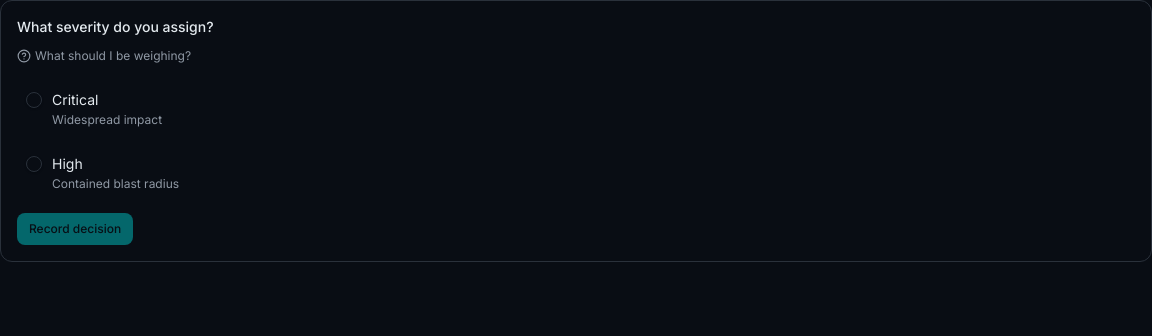
Test case: DecisionForm › keeps guidance collapsed until it is asked for
This screenshot has width=1152, height=336.
expect the text "Consider impact, not certainty" is not shown: met
What coordinates should you click on to do the following:
click the button "What should I be weighing?"
I would click on:
 (104, 56)
Its box is x1=17 y1=48 x2=191 y2=64.
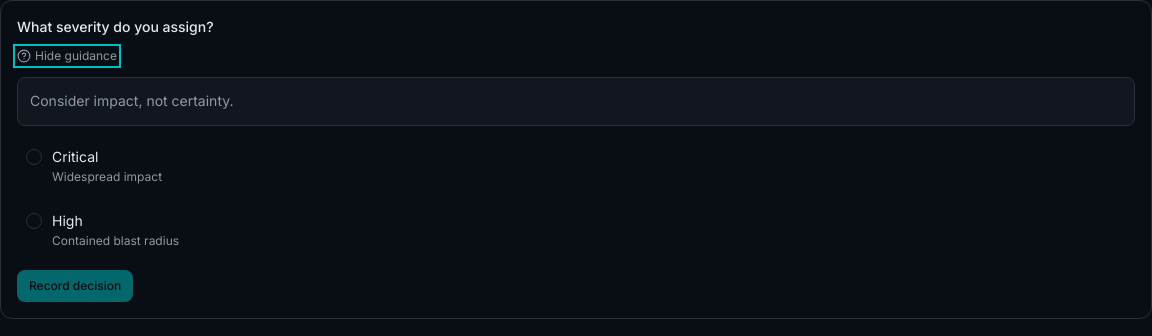
expect the text "Consider impact, not certainty." is shown: met, box x1=30 y1=92 x2=234 y2=109
